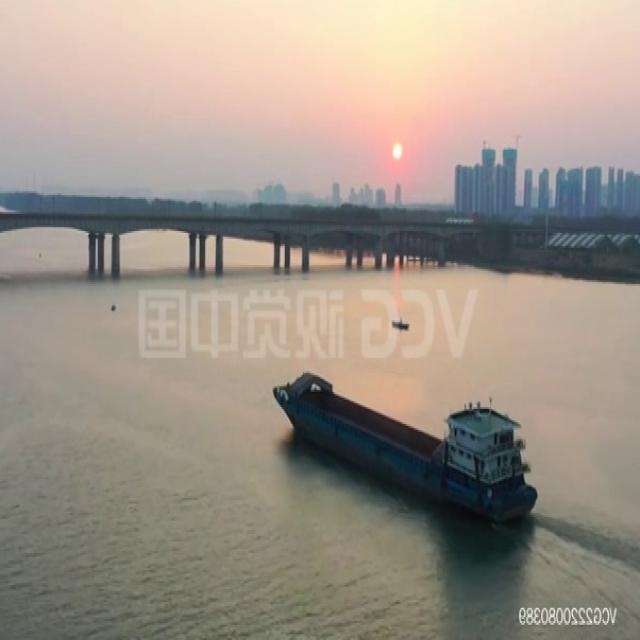cargoship: (284, 353, 520, 524)
